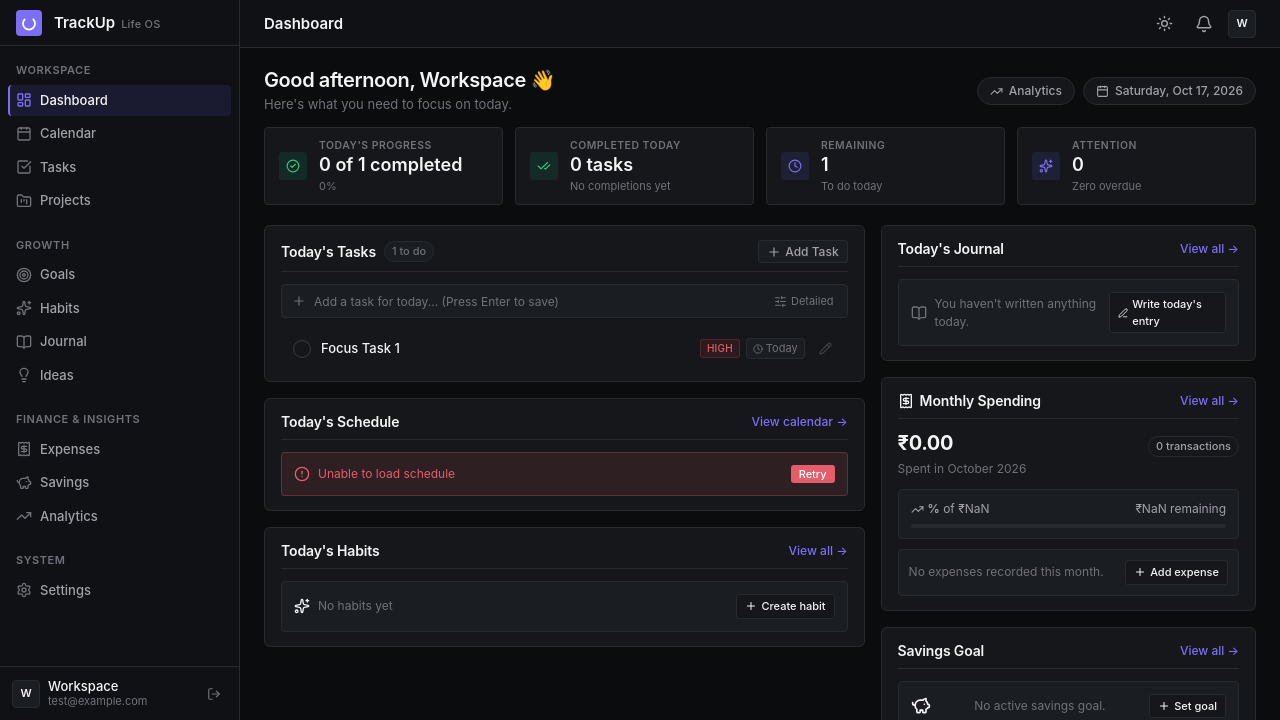
Test: Milestone C05: Calendar Product Integration (Navigation, Breadcrumbs, Dashboard Widget, Fault Isolation) › 4. Dashboard Fault Isolation › isolates Calendar API failure: widget shows retry error while other Dashboard widgets work normally
Expected: the text "Unable to load schedule" is shown, [318,466,455,481]
Expected: the text "Focus Task 1" is shown, [321,340,400,356]
Click the button with aria-label "Retry loading schedule" at point(813, 474), box [791,465,835,483]
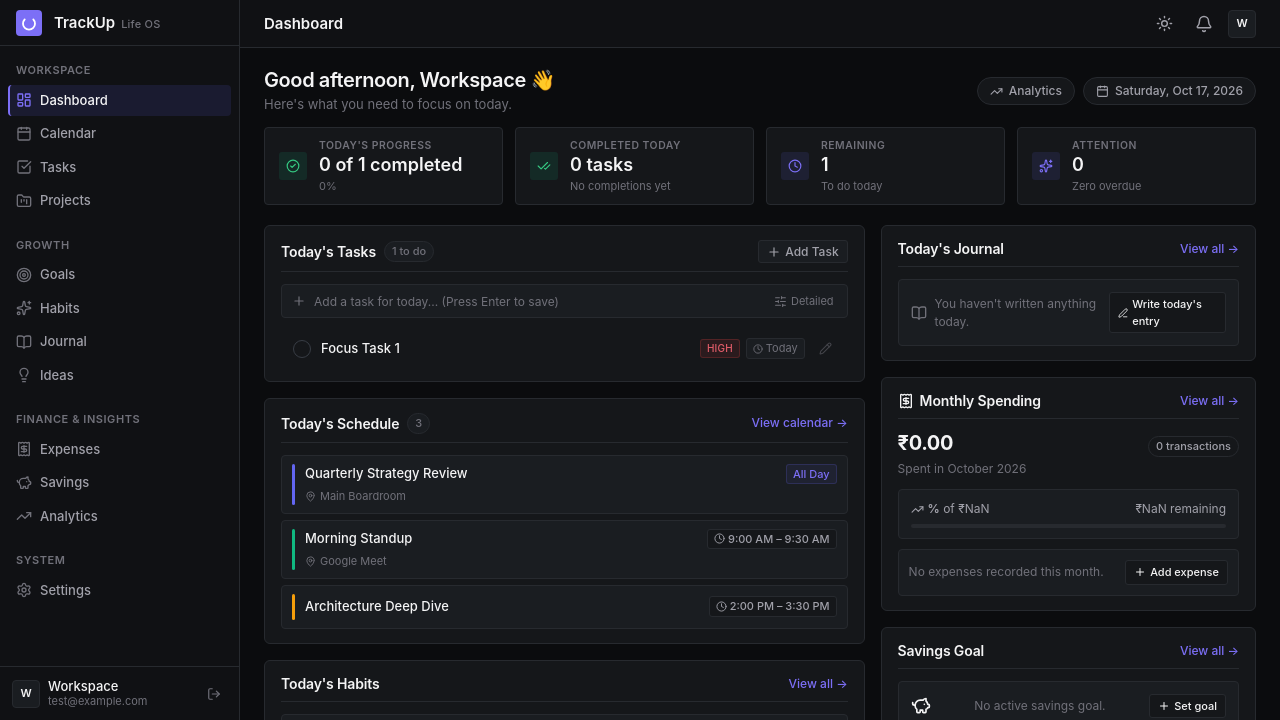
Now the text "Quarterly Strategy Review" is shown, box [305,464,468,484]
Now the text "Unable to load schedule" is gone
